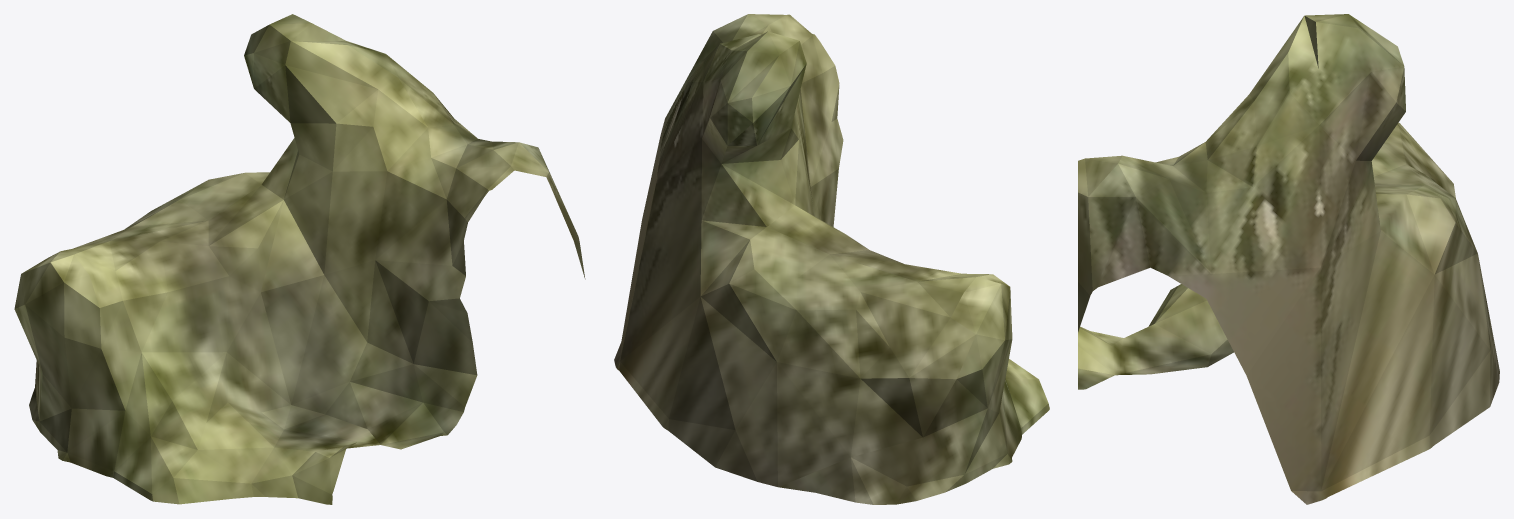
3 renders of one model, left to right at view 1: azimuth 30°, elevation 25°; view 2: azimuth 150°, elevation 25°; view 3: azimuth 270°, elevation 25°, orthographic. The views are drawn at different scales.
Bounding box in the file's own units: 1.43 × 1.21 × 1.16.
Materials: 1 (1 with a texture image).
